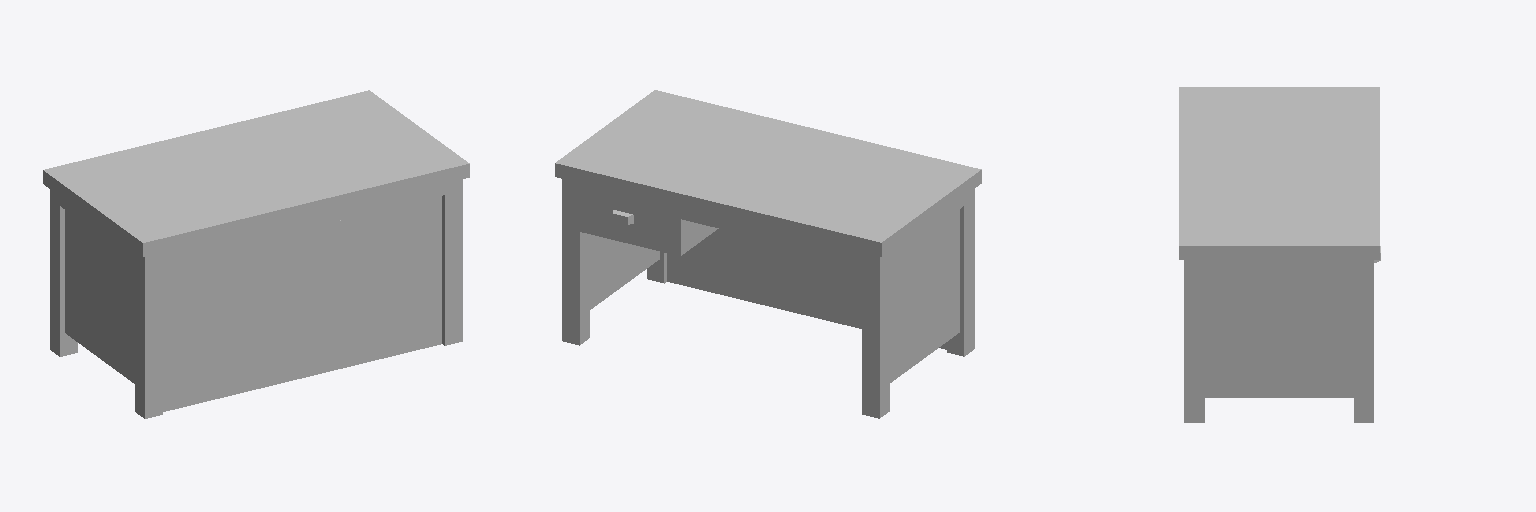
File: office desk.obj
3 views of the same model, side by side, from view 1: azimuth 30°, elevation 25°; view 2: azimuth 150°, elevation 25°; view 3: azimuth 270°, elevation 25° (orthographic).
Visible parts, largest first — view 1: desk; view 2: desk; view 3: desk.
Boxes of the visible parts, <box> form: desk: <box>43,90,469,418</box>; desk: <box>555,90,981,418</box>; desk: <box>1179,87,1380,422</box>.
Size of the model in its own units: 0.7345 by 0.3844 by 0.3923.